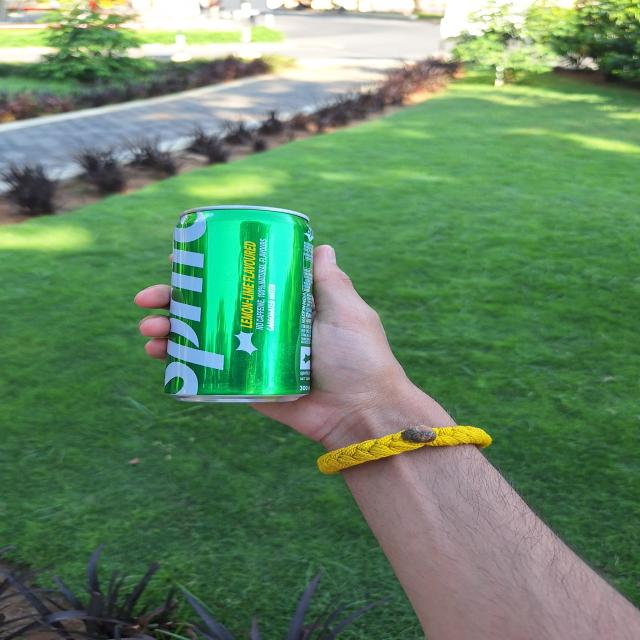Sprite: (170, 208, 309, 404)
